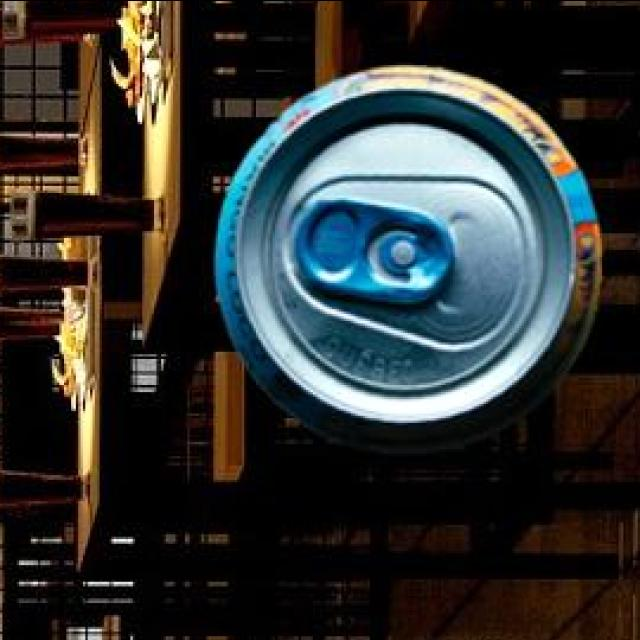logam: (212, 70, 599, 456)
